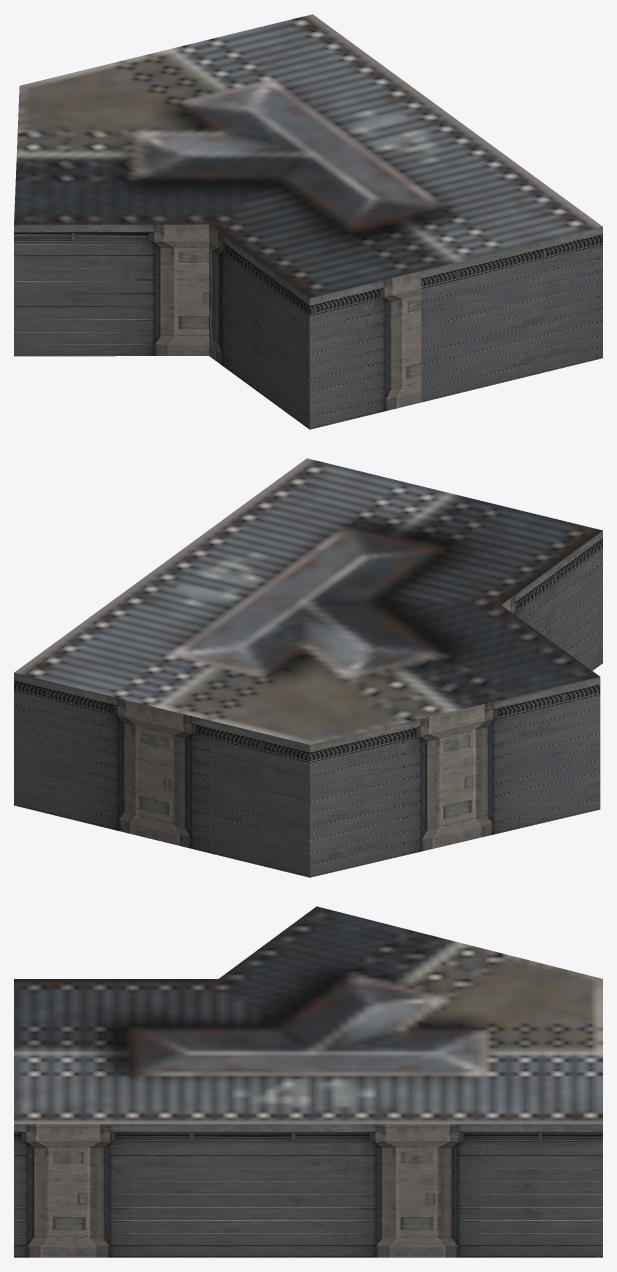
The model's file is hangar_hard_41.glb.
The picture shows the model from 3 angles, top to bottom: view 1: azimuth 30°, elevation 25°; view 2: azimuth 150°, elevation 25°; view 3: azimuth 270°, elevation 25°; orthographic projection.
Parts seen in each view (by area): view 1: buildings/saxarba/hangar_hard/hangar_hard_41; view 2: buildings/saxarba/hangar_hard/hangar_hard_41; view 3: buildings/saxarba/hangar_hard/hangar_hard_41.
Boxes of the visible parts, x1,y1,x2,y2 form: buildings/saxarba/hangar_hard/hangar_hard_41: (14,14,602,429); buildings/saxarba/hangar_hard/hangar_hard_41: (14,458,602,877); buildings/saxarba/hangar_hard/hangar_hard_41: (14,906,602,1257).
Size of the model in its own units: 63 by 18 by 72.
